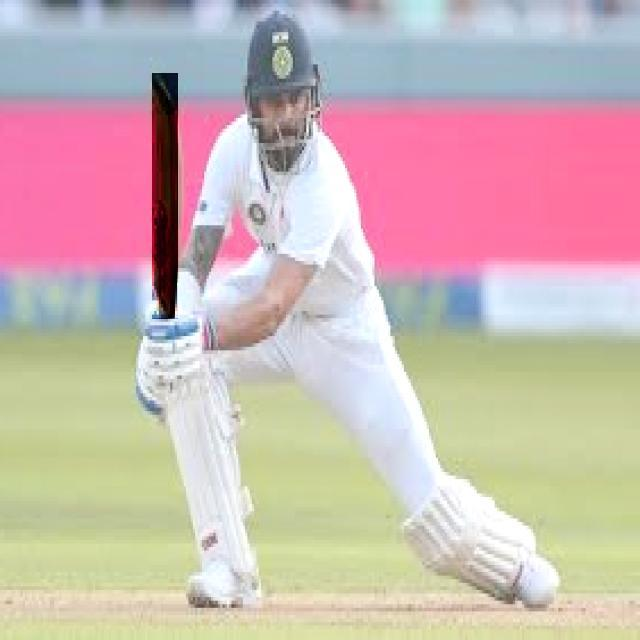bat: (145, 69, 189, 320)
toe: (150, 69, 184, 106)
